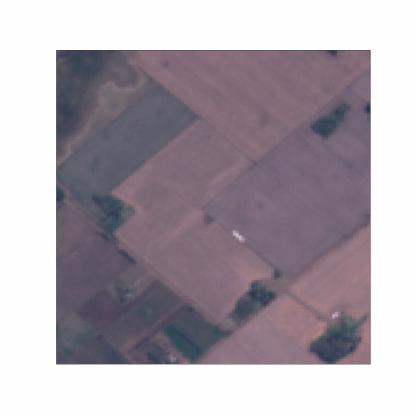silobolsa: (232, 228, 246, 244)
